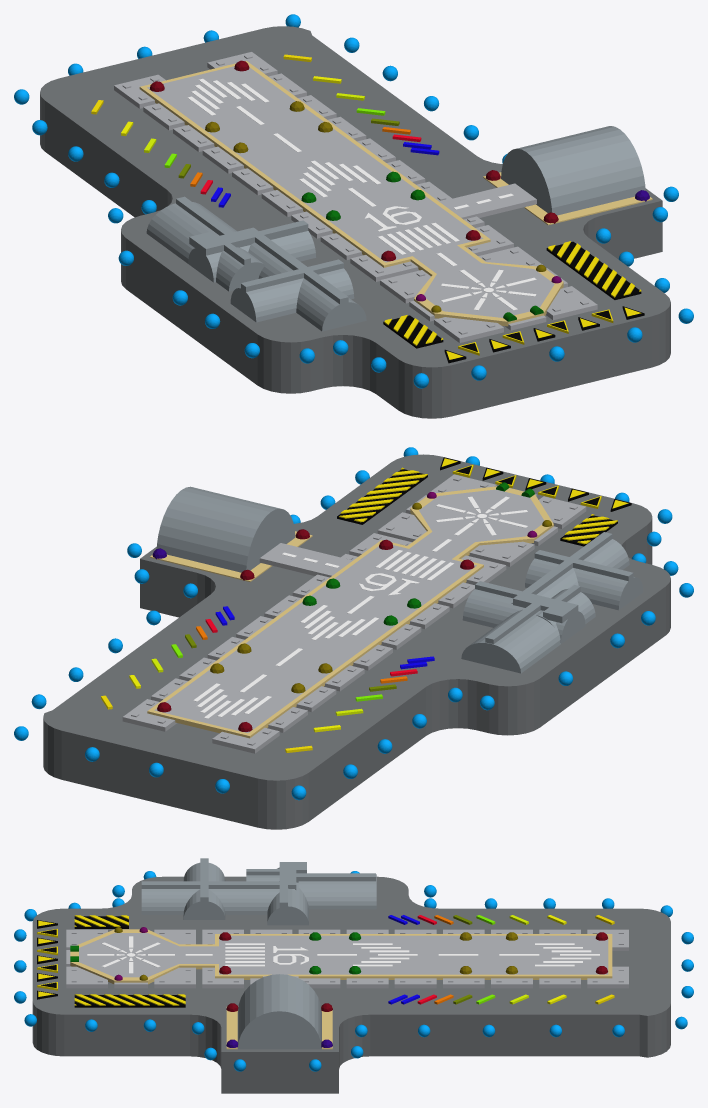
File: Carrier.dae
3 views of the same model, one above another, from view 1: azimuth 30°, elevation 25°; view 2: azimuth 150°, elevation 25°; view 3: azimuth 270°, elevation 25° (orthographic). The views are drawn at different scales.
Parts seen in each view (by area): view 1: Cube.045, Cube.024, Cylinder.008, Cylinder.004, Cylinder.003, Cylinder.007, Cube.121, Cylinder.005, Cube.084, Cube.090, Cylinder.006, Cube.036 (+12 smaller); view 2: Cube.045, Cube.024, Cylinder.008, Cylinder.007, Cylinder.003, Cylinder.005, Cube.121, Cylinder.004, Cube.084, Cube.039, Cube.090, Cube.059 (+9 smaller); view 3: Cube.045, Cube.024, Cylinder.008, Cylinder.004, Cylinder.007, Cylinder.003, Cylinder.005, Cube.084, Cube.090, Cube.040, Cube.088, Cube.035 (+15 smaller).
Boxes of the visible parts, <box> form: Cube.045: <box>40,26,670,418</box>; Cube.024: <box>139,61,563,326</box>; Cylinder.008: <box>501,126,645,215</box>; Cylinder.004: <box>248,242,366,331</box>; Cylinder.003: <box>230,268,354,322</box>; Cylinder.007: <box>146,202,236,263</box>; Cube.121: <box>440,183,536,219</box>; Cylinder.005: <box>188,231,315,282</box>; Cube.084: <box>248,230,348,305</box>; Cube.090: <box>546,241,641,299</box>; Cylinder.006: <box>214,235,265,291</box>; Cube.036: <box>434,317,503,342</box>; Cube.045: <box>43,454,670,829</box>; Cube.024: <box>147,486,553,738</box>; Cylinder.008: <box>156,486,295,572</box>; Cylinder.007: <box>461,609,560,673</box>; Cylinder.003: <box>525,558,643,610</box>; Cylinder.005: <box>462,589,585,643</box>; Cube.121: <box>259,543,352,577</box>; Cylinder.004: <box>511,539,629,603</box>; Cube.084: <box>517,532,612,598</box>; Cube.039: <box>468,541,534,566</box>; Cube.090: <box>337,469,427,524</box>; Cube.059: <box>212,727,279,753</box>; Cube.045: <box>32,876,670,1093</box>; Cube.024: <box>70,929,612,984</box>; Cylinder.008: <box>238,974,321,1049</box>; Cylinder.004: <box>141,889,294,914</box>; Cylinder.007: <box>298,874,376,909</box>; Cylinder.003: <box>183,862,225,919</box>; Cylinder.005: <box>267,867,308,925</box>; Cube.084: <box>141,881,292,888</box>; Cube.090: <box>74,995,185,1007</box>; Cube.040: <box>154,967,195,988</box>; Cube.088: <box>288,873,375,882</box>; Cube.035: <box>66,966,107,988</box>.
Size of the model in its own units: 43.8 by 65 by 8.4.
